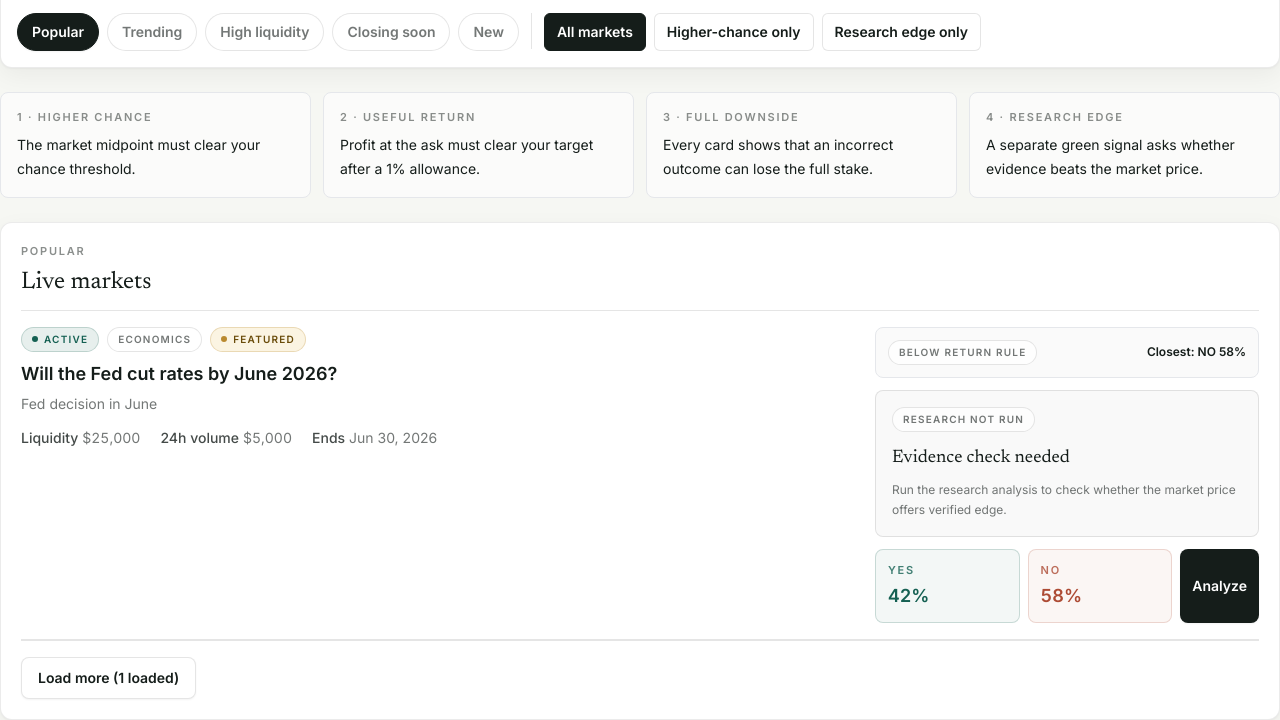
Test: MarketBrowserClient › loads more markets with the next offset and appends results
The image size is (1280, 720).
(page scrolled)
Expected: the link "Will the Fed cut rates by June 2026?" is shown, [21,362,337,384]
What coordinates should you click on to do the following:
click the button "Load more (1 loaded)"
I would click on:
 (109, 678)
Its box is [21,657,196,699].
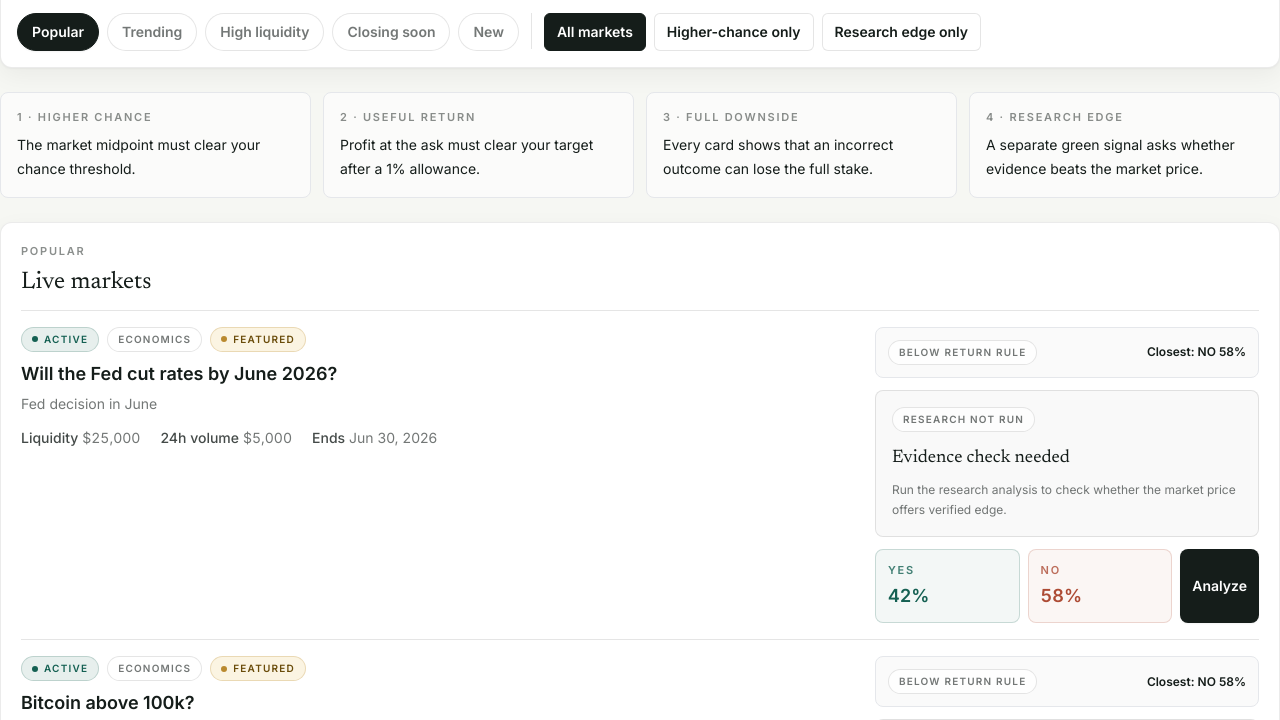
Expected: the link "Will the Fed cut rates by June 2026?" is shown, [21,362,337,384]
Result: the link "Bitcoin above 100k?" is shown at [21,692,194,713]
Result: the button "Load more" is gone
